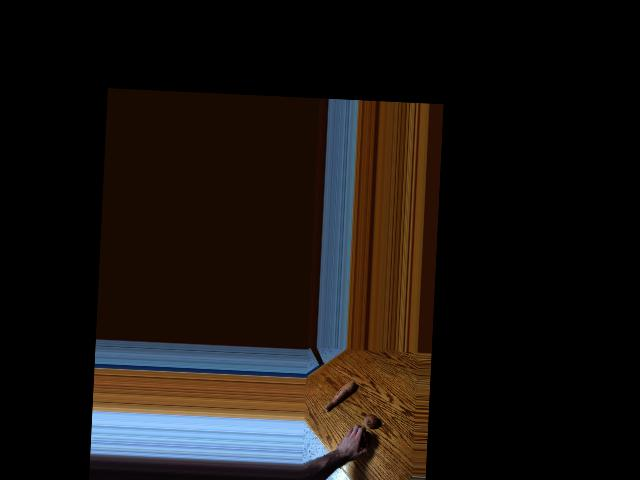onion: (358, 430, 370, 446)
